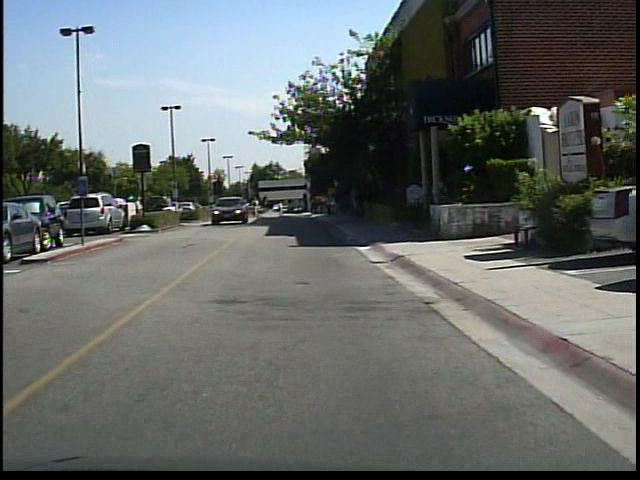person: (332, 181, 350, 218), (158, 190, 175, 227), (134, 194, 149, 227), (251, 195, 263, 220)
